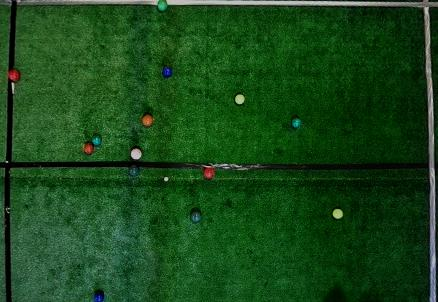blue: (162, 67, 173, 77), (93, 292, 104, 301)
green: (190, 210, 201, 222), (157, 0, 168, 11), (129, 164, 140, 175), (292, 117, 302, 128), (92, 136, 102, 146)
red: (8, 68, 21, 82), (130, 148, 143, 160), (203, 167, 215, 179), (142, 115, 154, 127), (83, 143, 95, 154)
vline: (420, 0, 437, 302), (1, 84, 15, 301), (1, 0, 17, 71)
white: (164, 176, 169, 182)
yellow: (331, 208, 344, 219), (234, 94, 245, 105)
